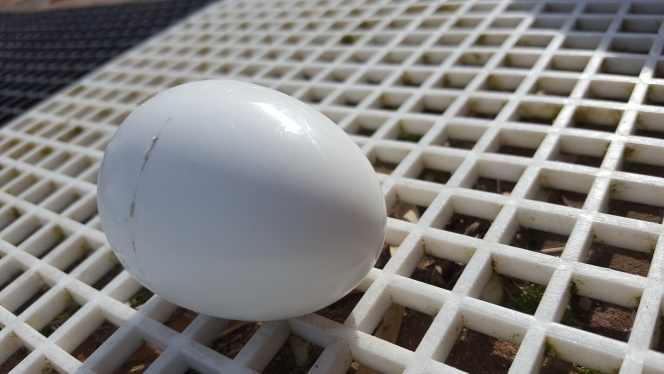egg: (95, 79, 388, 319)
